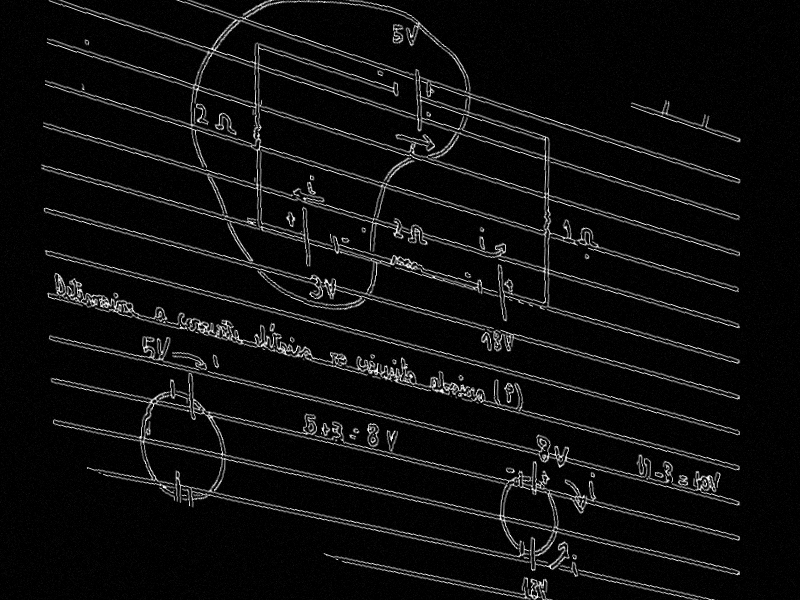-: (504, 465, 515, 476), (678, 472, 689, 483), (678, 477, 688, 489), (654, 469, 664, 480), (463, 270, 473, 280), (341, 235, 350, 246), (376, 68, 385, 78), (352, 426, 360, 437), (349, 433, 357, 441)
0: (698, 473, 709, 495)
1: (560, 214, 576, 245), (478, 328, 494, 355), (519, 573, 532, 600), (634, 450, 645, 476), (692, 468, 703, 494)
2: (193, 100, 210, 129), (390, 214, 406, 242)
3: (306, 271, 323, 302), (330, 418, 346, 447), (662, 458, 675, 488), (492, 326, 503, 355), (641, 456, 652, 481), (529, 576, 539, 600)
5: (139, 331, 157, 365), (301, 409, 319, 439), (390, 19, 406, 48)
8: (534, 433, 551, 465), (365, 418, 381, 450)
V: (153, 330, 172, 367), (551, 440, 571, 473), (404, 20, 420, 50), (322, 272, 338, 302), (384, 424, 399, 455), (707, 467, 722, 496), (536, 574, 550, 600), (502, 329, 514, 355)
p: (502, 380, 515, 407)
